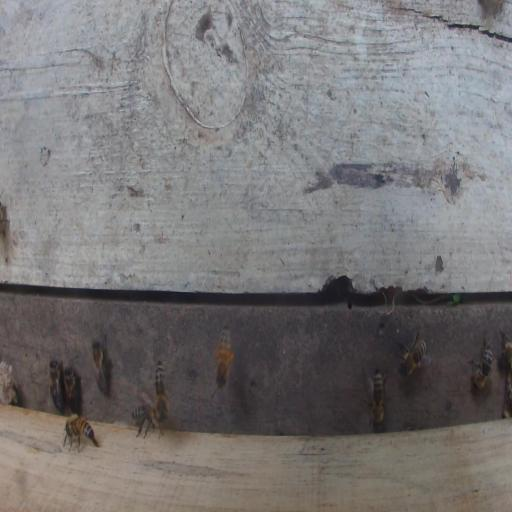bee: (211, 322, 234, 399), (398, 330, 431, 377), (62, 413, 99, 453), (467, 332, 492, 391), (366, 366, 387, 429), (91, 335, 111, 396), (131, 402, 163, 439), (154, 359, 168, 424), (49, 358, 64, 414), (63, 364, 78, 409), (499, 330, 512, 370)
